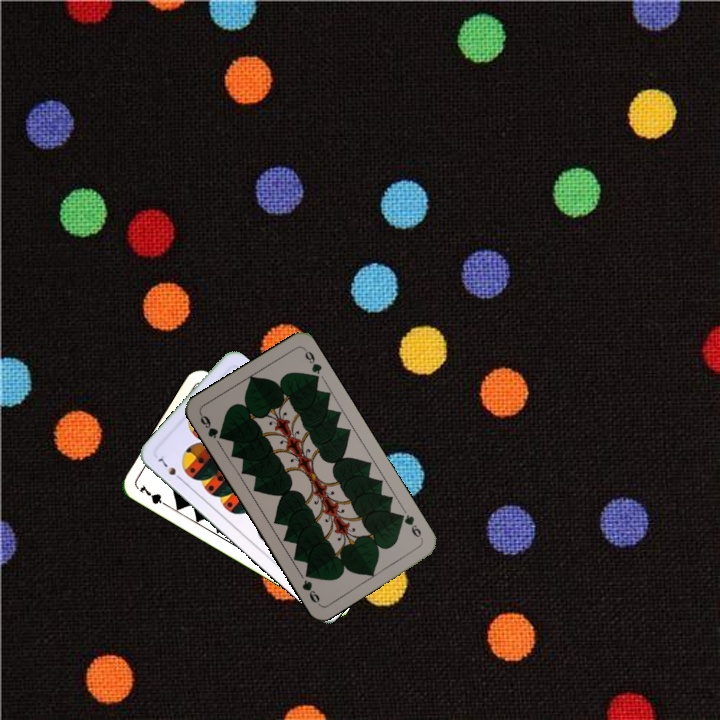G7: (135, 480, 172, 510)
G9: (196, 410, 228, 442), (394, 510, 425, 542)
S7: (154, 452, 186, 484)
